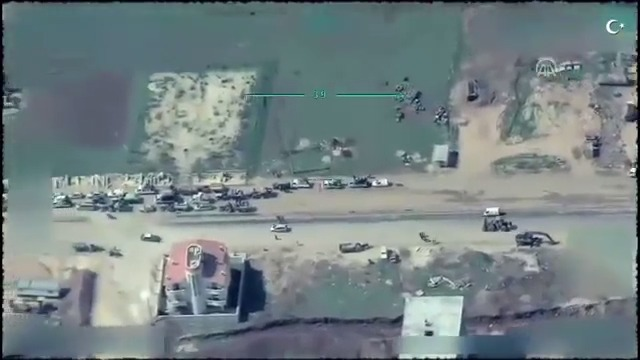arac: (515, 226, 559, 249), (337, 237, 370, 254), (134, 179, 161, 196), (292, 175, 311, 193), (370, 176, 391, 191), (483, 204, 506, 216), (140, 231, 161, 243), (270, 222, 291, 233), (379, 244, 390, 258)
bina: (151, 234, 247, 325)
